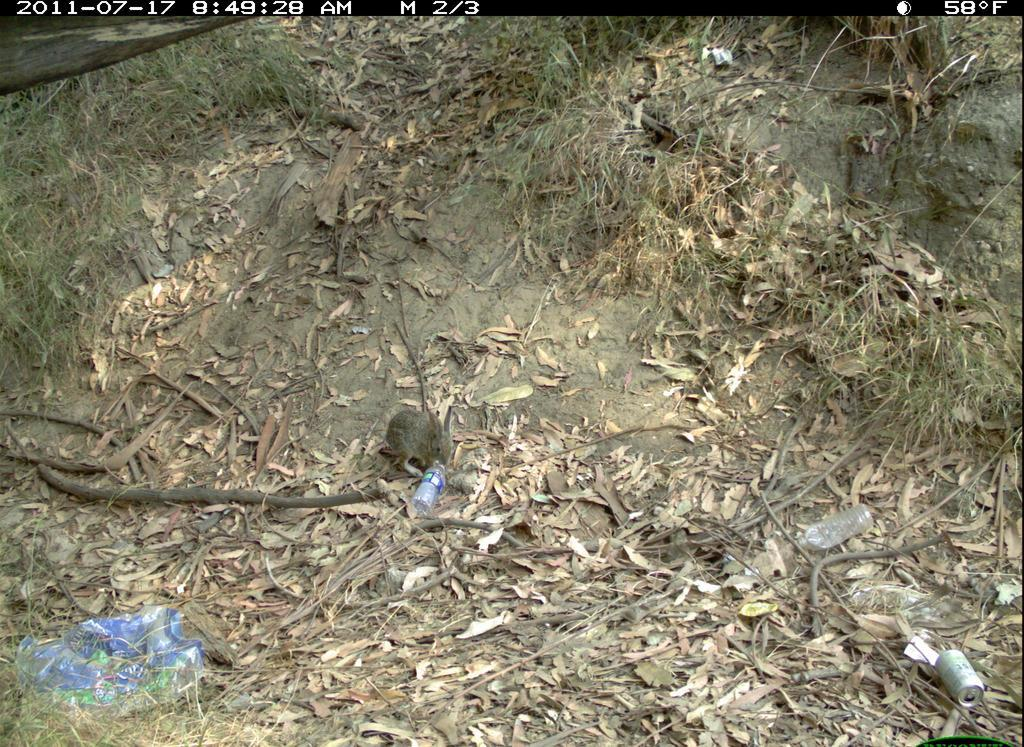rabbit: (355, 378, 470, 493)
